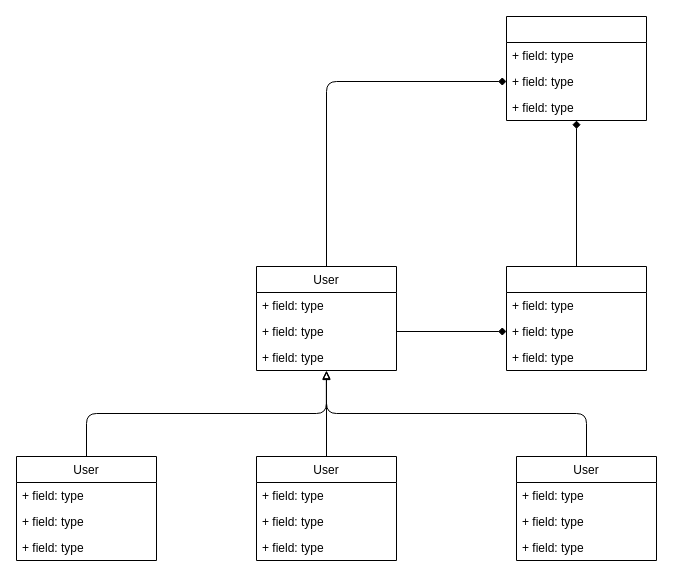
Image size: 673x577. Some labels were removed from this diagram. Here are the shapes that lost their labels. From the top down, the box of each, then its label:
(506, 16, 646, 120): Activity
(506, 266, 646, 370): Certification
